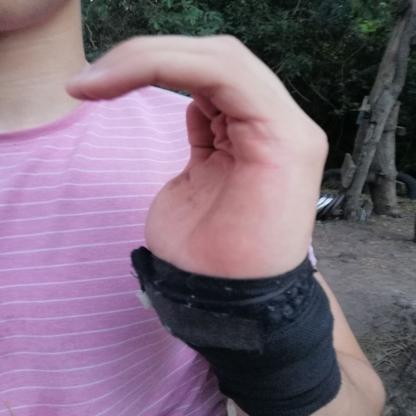HAA: (46, 25, 350, 313)
